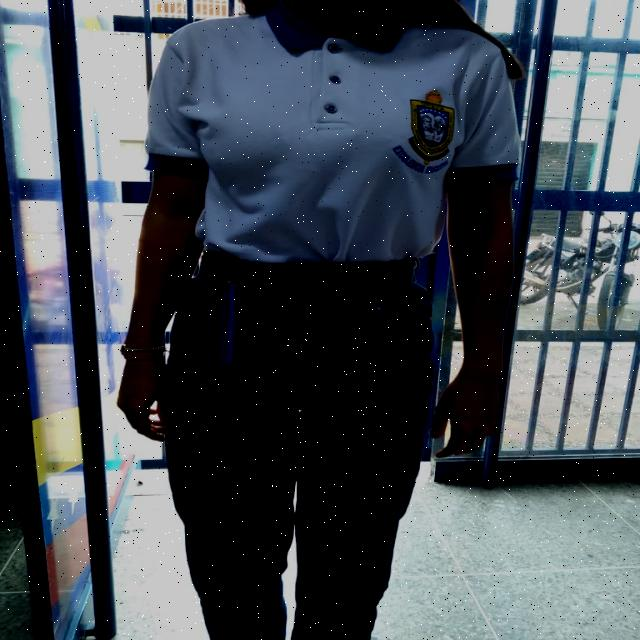pantalon_oscuro: (162, 260, 438, 640)
uniforme_superior: (144, 1, 521, 264)
